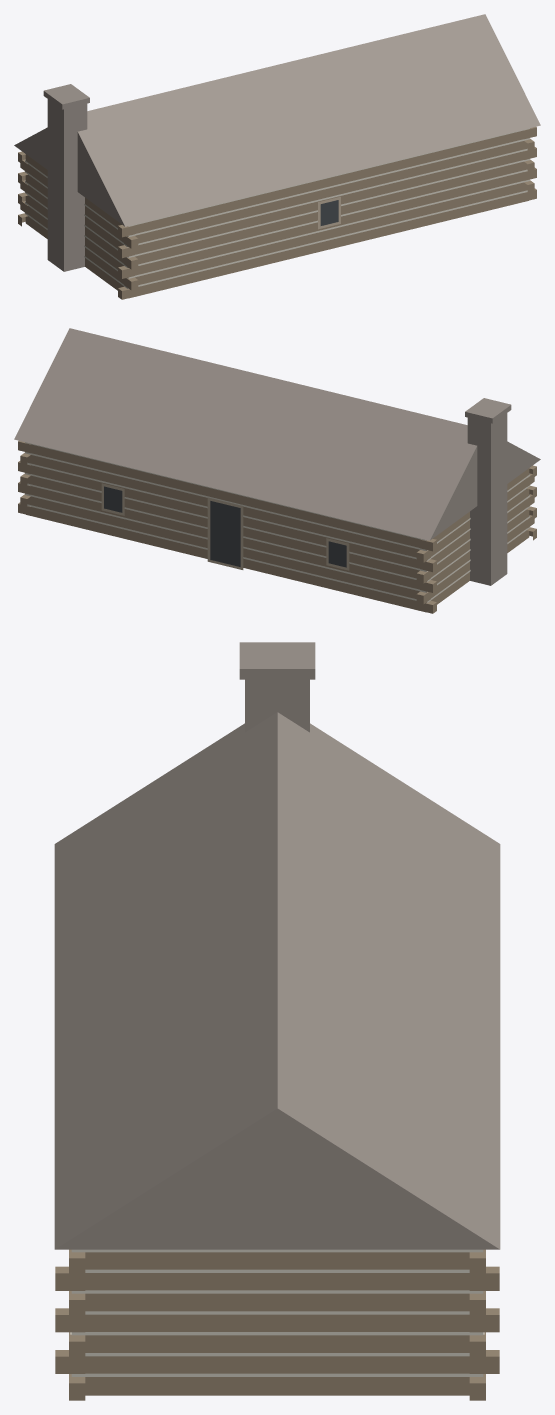
File: hogan_store__log_1831.glb
3 views of the same model, one above another, from view 1: azimuth 30°, elevation 25°; view 2: azimuth 150°, elevation 25°; view 3: azimuth 270°, elevation 25° (orthographic). The views are drawn at different scales.
Visible parts, largest first — view 1: hogan_store__log_1831; view 2: hogan_store__log_1831; view 3: hogan_store__log_1831.
Boxes of the visible parts, x1,y1,x2,y2 form: hogan_store__log_1831: (14,14,540,299); hogan_store__log_1831: (14,328,540,613); hogan_store__log_1831: (54,642,500,1400).
Size of the model in its own units: 14.79 by 5.59 by 6.6.
